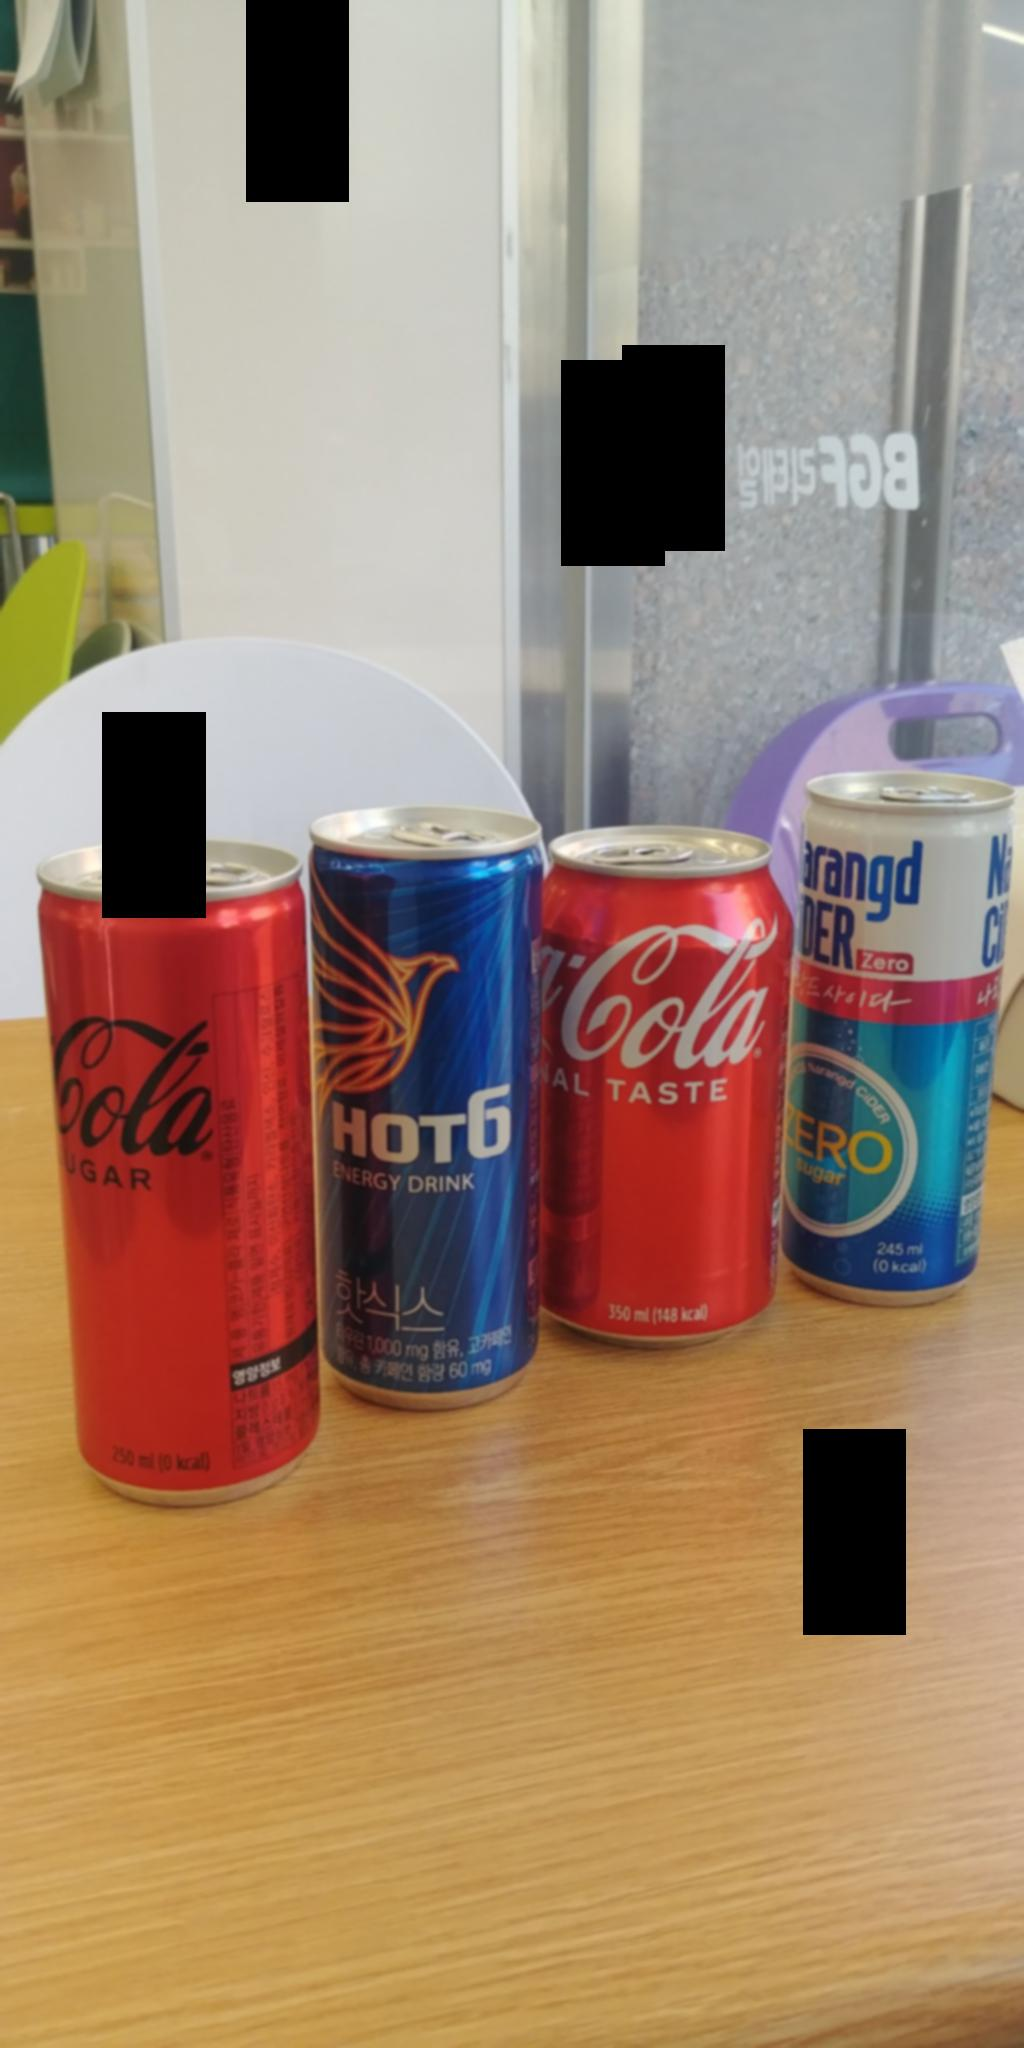cocacola: (552, 827, 768, 1365)
hotsix_org: (307, 792, 526, 1432)
narangdcider: (799, 754, 1023, 1297)
